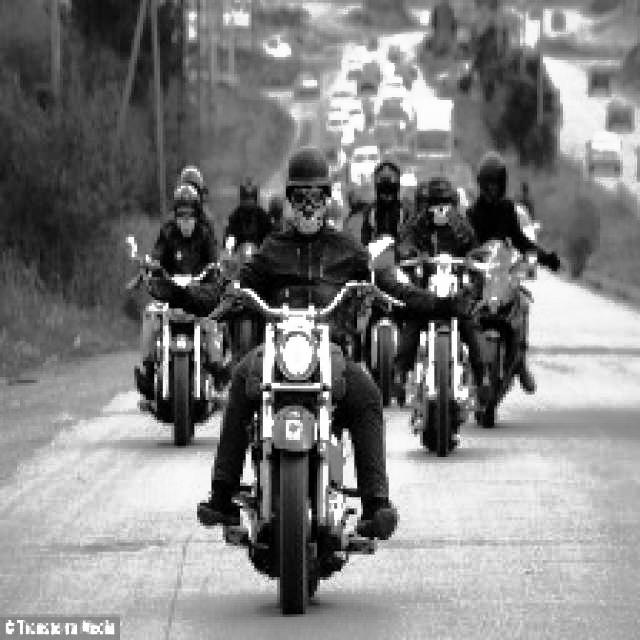Bike: (236, 267, 369, 604), (133, 249, 229, 432), (465, 234, 541, 424), (408, 242, 474, 458)
